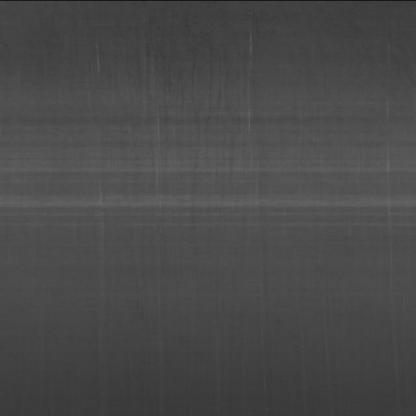waist_folding: (21, 87, 396, 245)
